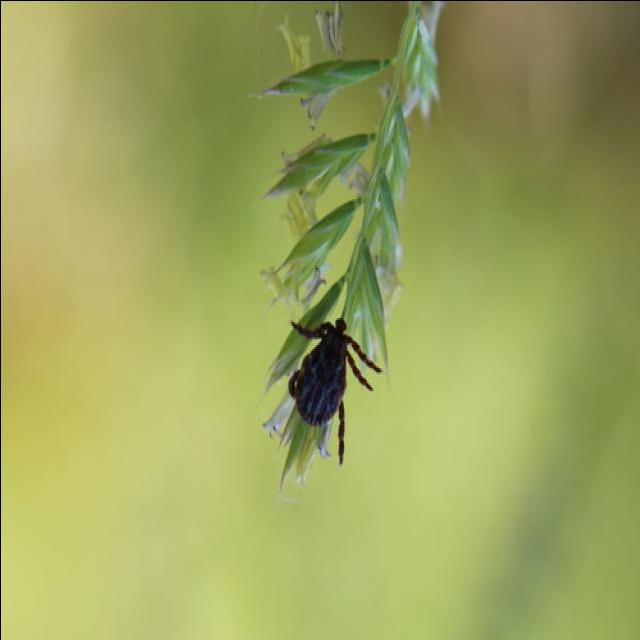Dermacentor Reticulatus-M: (287, 317, 381, 465)
